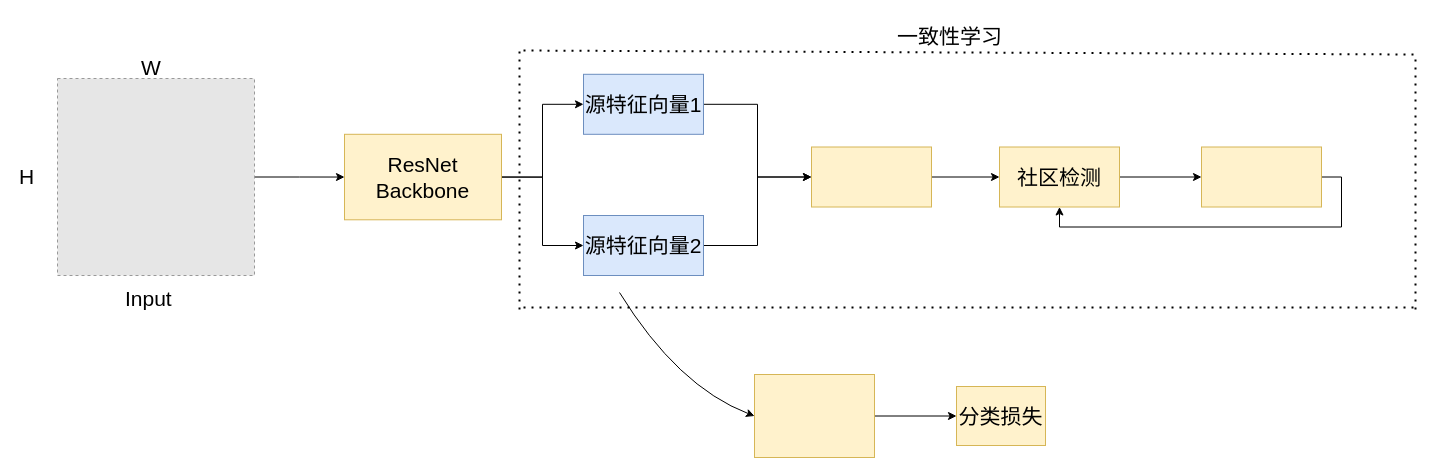
Some shapes in this 1434 by 475 pixel diagram are drawn without their labels. Grey dashed boxes stand in for pictures. Each missing label, with the centre of its shape:
"一致性损失" belongs at (x=1261, y=176).
"相似度比较" belongs at (x=871, y=176).
"真实图像 还是 伪造图像" belongs at (x=814, y=416).
